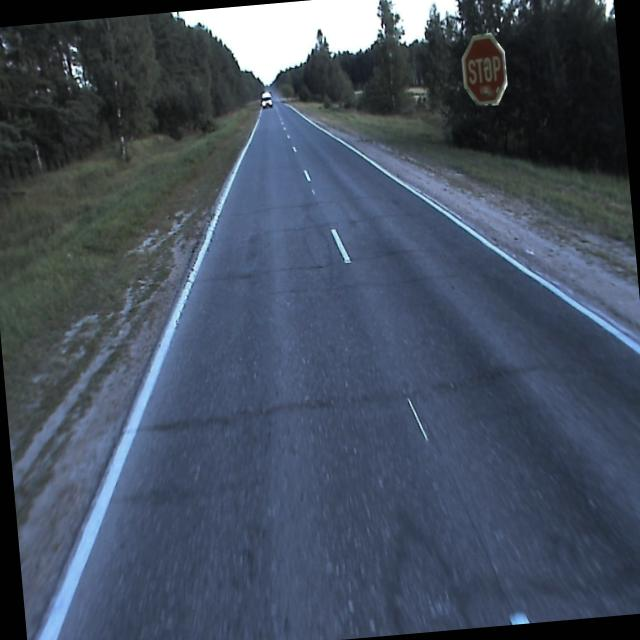road: (30, 99, 640, 640)
